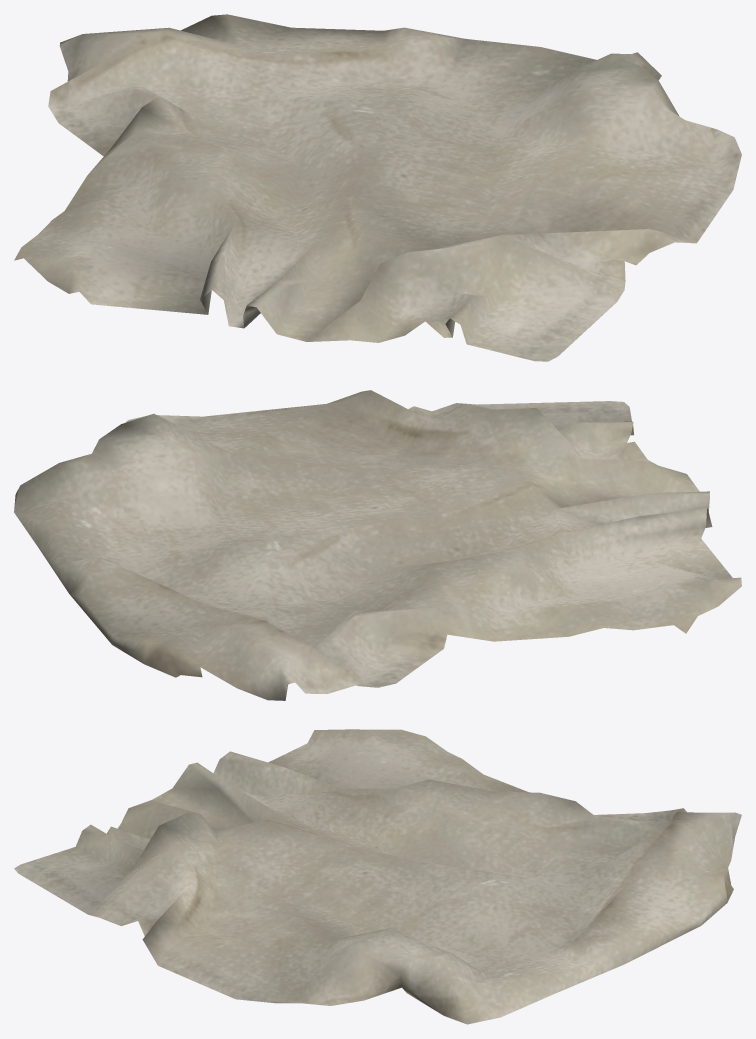
File: 039_tablecloth03c.fbx
3 views of the same model, one above another, from view 1: azimuth 30°, elevation 25°; view 2: azimuth 150°, elevation 25°; view 3: azimuth 270°, elevation 25° (orthographic). The views are drawn at different scales.
Parts seen in each view (by area): view 1: LOD_1_Group_0_Sub_1__sm36_035_TableCloth03B_A_Mat; view 2: LOD_1_Group_0_Sub_1__sm36_035_TableCloth03B_A_Mat; view 3: LOD_1_Group_0_Sub_1__sm36_035_TableCloth03B_A_Mat.
Boxes of the visible parts, <box> form: LOD_1_Group_0_Sub_1__sm36_035_TableCloth03B_A_Mat: <box>14,14,741,361</box>; LOD_1_Group_0_Sub_1__sm36_035_TableCloth03B_A_Mat: <box>14,390,741,700</box>; LOD_1_Group_0_Sub_1__sm36_035_TableCloth03B_A_Mat: <box>14,729,741,1024</box>.
Bounding box in the file's own units: 0.739 × 0.0608 × 0.7941.
